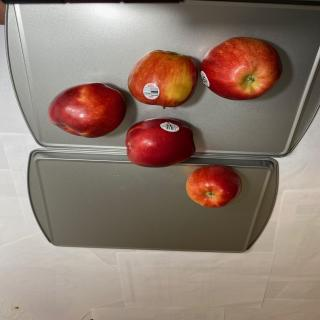Apple: (200, 36, 283, 100), (47, 82, 127, 138), (128, 49, 198, 109), (125, 118, 196, 168), (186, 164, 242, 208)
